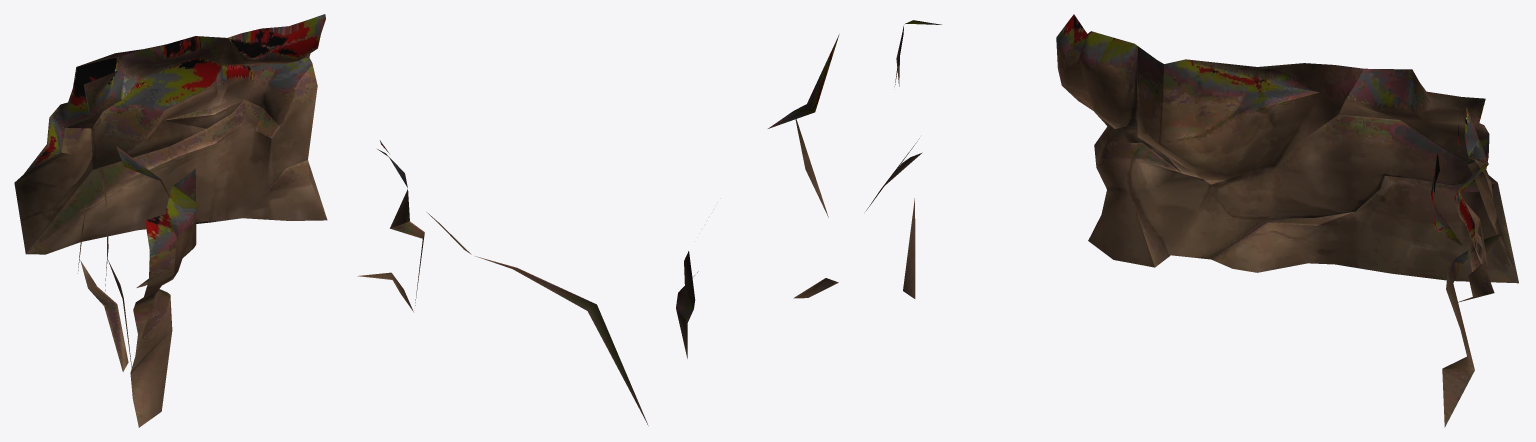
3 views of the same model, side by side, from view 1: azimuth 30°, elevation 25°; view 2: azimuth 150°, elevation 25°; view 3: azimuth 270°, elevation 25° (orthographic). The views are drawn at different scales.
Visible parts, largest first — view 1: body0_model0_lod0_mesh0; view 2: body0_model0_lod0_mesh0; view 3: body0_model0_lod0_mesh0.
Part boxes in pixels (x1,y1,x2,y2): body0_model0_lod0_mesh0: [14, 14, 327, 427]; body0_model0_lod0_mesh0: [357, 20, 941, 425]; body0_model0_lod0_mesh0: [1056, 14, 1518, 427].
Size of the model in its own units: 429 by 246 by 451.
1 material, 1 textured.
